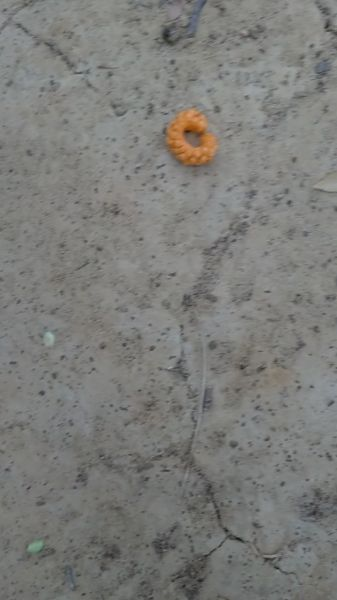eggs: (163, 102, 220, 169)
